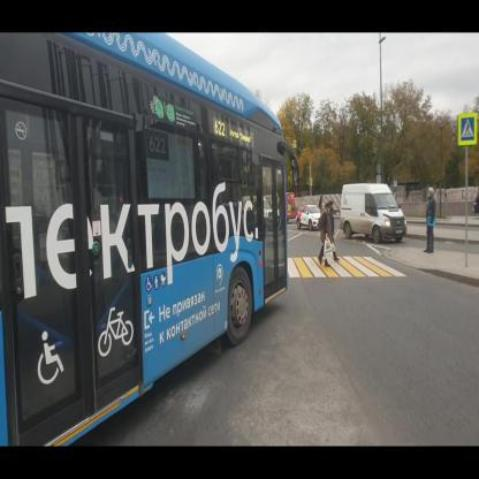bus: (10, 39, 291, 421)
